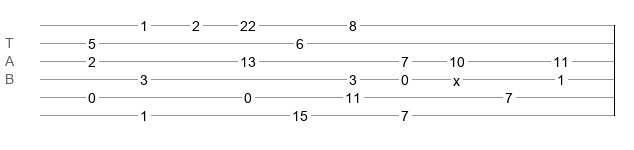0: (88, 90, 96, 100), (244, 90, 252, 100), (401, 72, 409, 82)
1: (140, 18, 148, 28), (140, 108, 148, 118), (557, 72, 565, 82)
10: (449, 54, 465, 64)
11: (345, 90, 361, 100), (553, 54, 569, 64)
13: (240, 54, 256, 64)
15: (292, 108, 308, 118)
2: (88, 54, 96, 64), (192, 18, 200, 28)
22: (240, 18, 256, 28)
3: (140, 72, 148, 82), (349, 72, 357, 82)
5: (88, 36, 96, 46)
6: (296, 36, 304, 46)
7: (401, 108, 409, 118), (401, 54, 409, 64), (505, 90, 513, 100)
8: (349, 18, 357, 28)
x: (453, 73, 460, 81)
